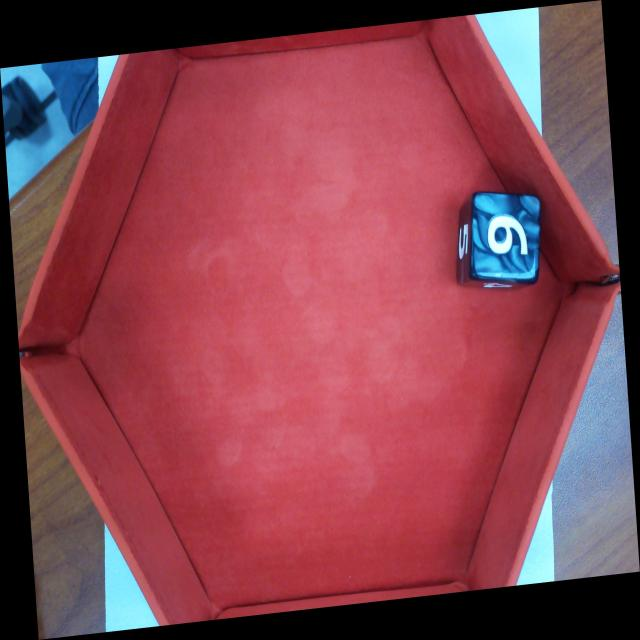dice: (467, 191, 542, 285)
